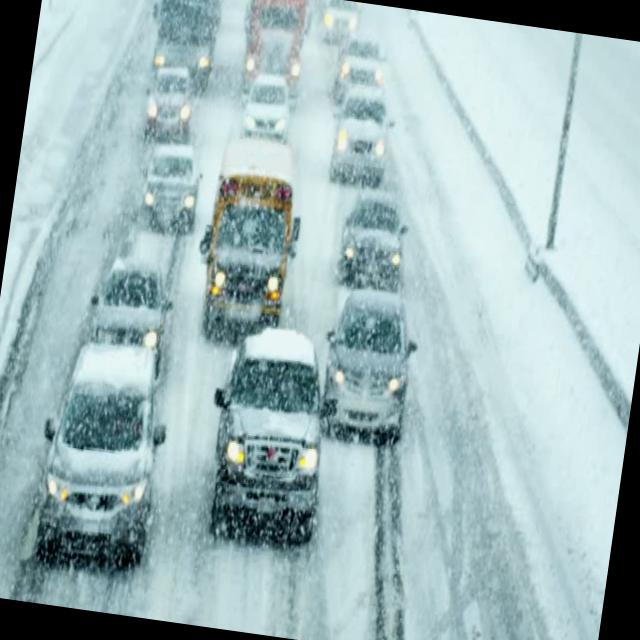Vehicle: (192, 319, 342, 557), (37, 333, 174, 568), (190, 144, 306, 318), (323, 298, 424, 467), (329, 192, 417, 290), (331, 83, 402, 182), (132, 142, 204, 226), (236, 0, 316, 75), (149, 0, 233, 71), (138, 67, 199, 142), (240, 78, 298, 140), (334, 30, 396, 87)
